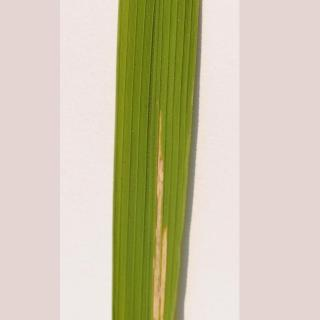Hawar-Daun: (145, 117, 177, 320)
